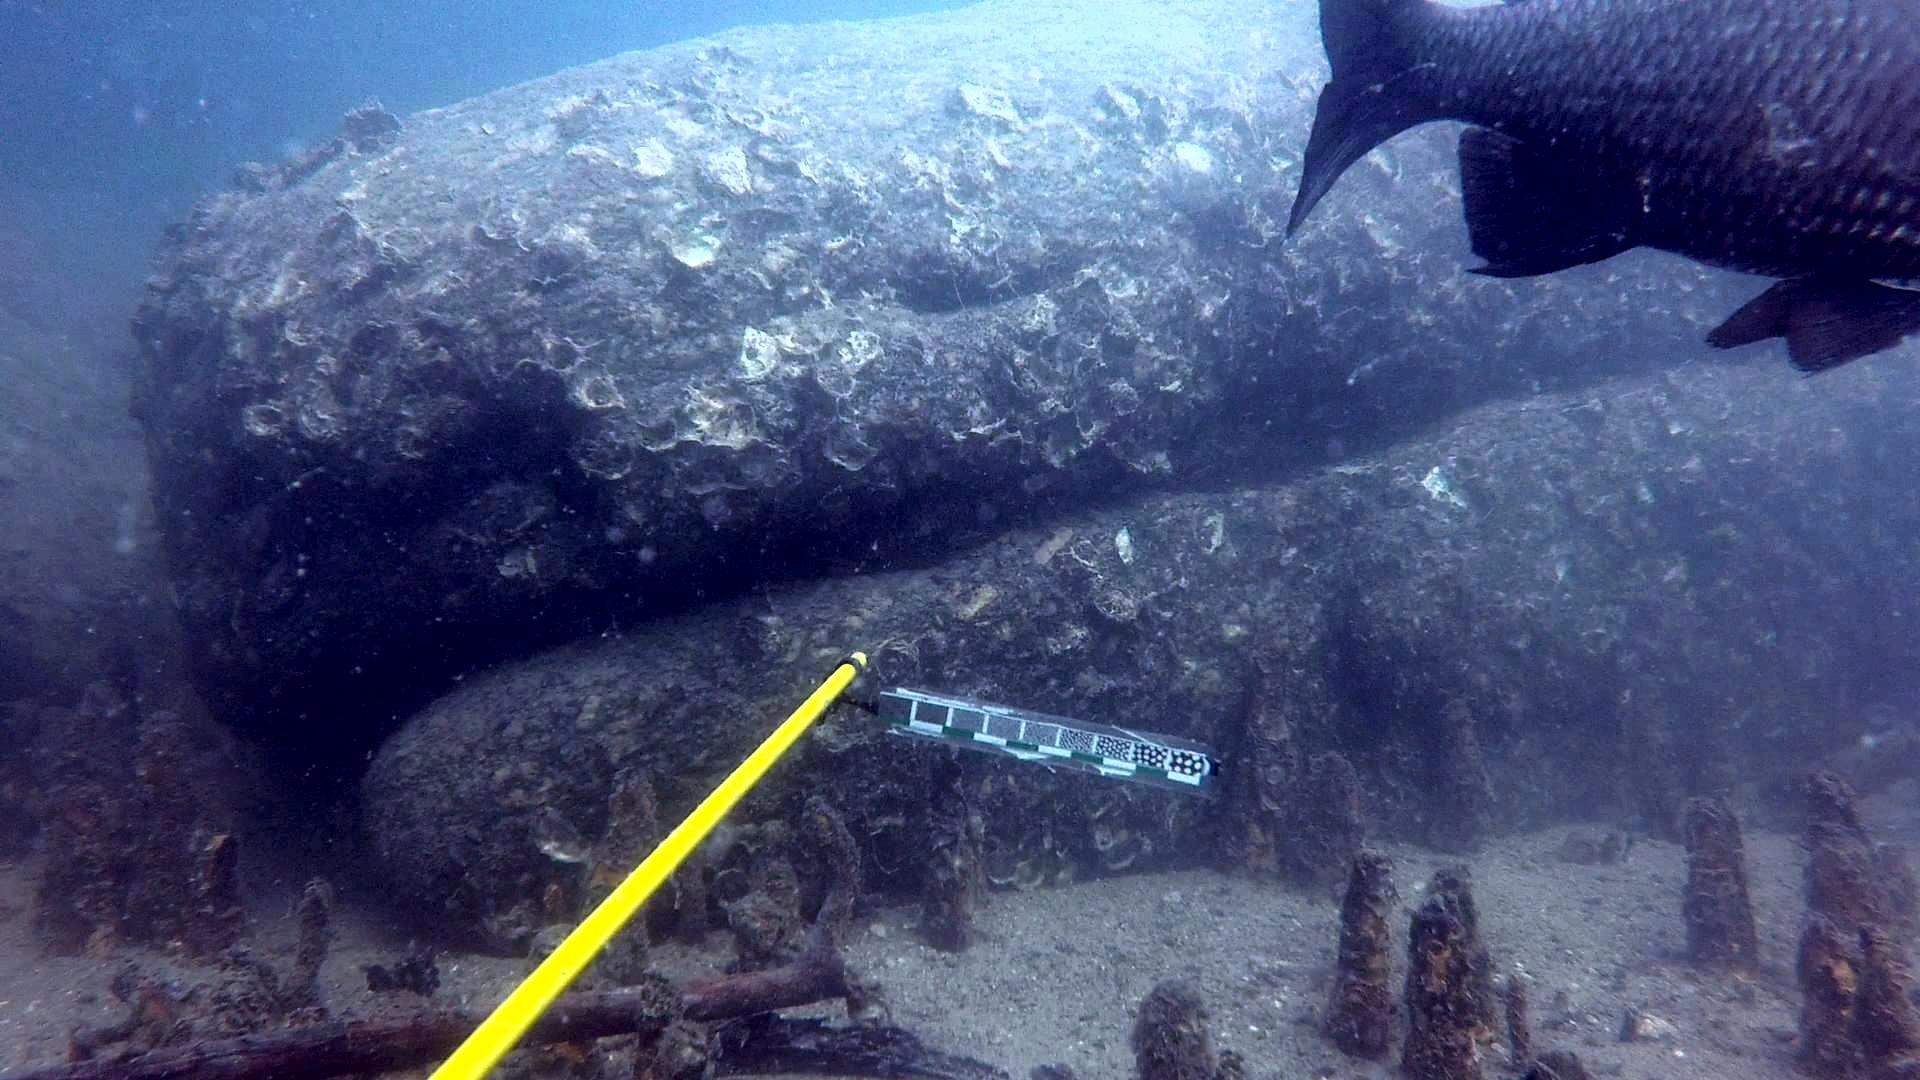acanthopagrus palmaris: (1280, 0, 1920, 384)
